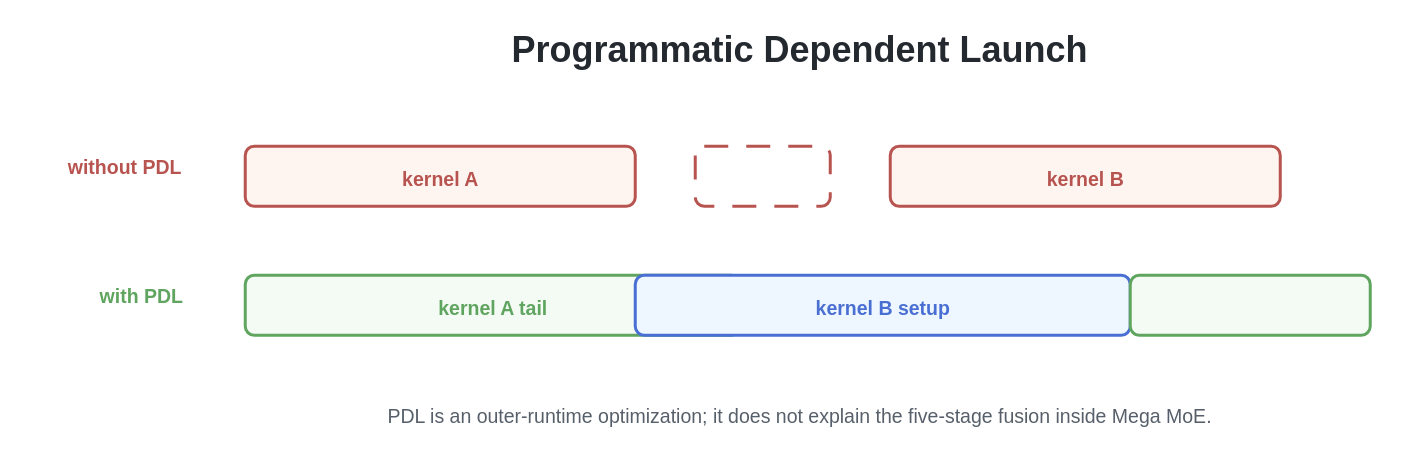
This 1421x455 diagram has some shape labels left out. Here are the shapes that lost their labels. From the top down, the box of each, then its label:
(693, 144, 831, 207): gap
(1128, 273, 1371, 336): B body
